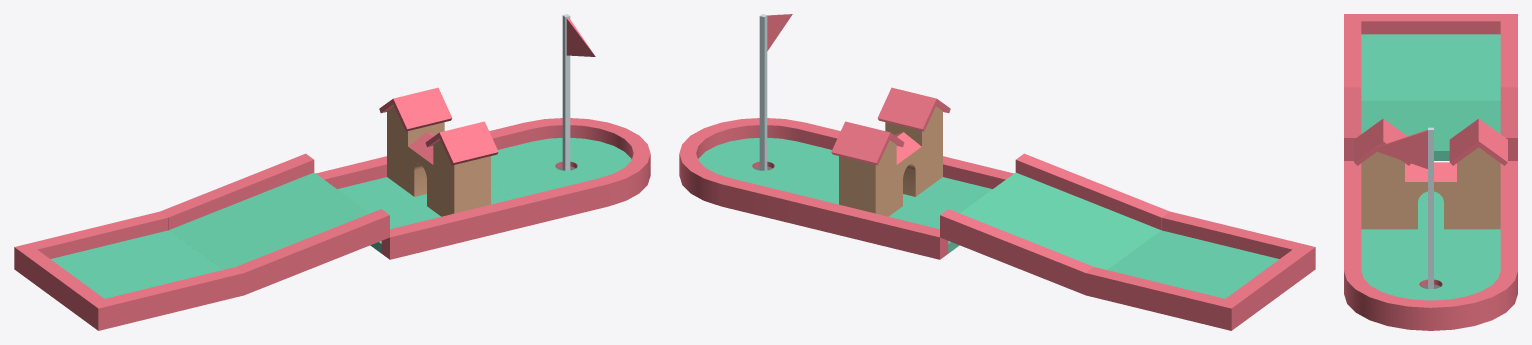
3 renders of one model, left to right at view 1: azimuth 30°, elevation 25°; view 2: azimuth 150°, elevation 25°; view 3: azimuth 270°, elevation 25°, orthographic. The views are drawn at different scales.
Parts seen in each view (by area): view 1: castle, rampA, end, holeRound.001, flag_red; view 2: castle, rampA, end, holeRound.001, flag_red; view 3: castle, end, holeRound.001, rampA, flag_red.
Part boxes in pixels (left/top/right/bottom): castle: left=316, top=87, right=535, bottom=259; rampA: left=160, top=153, right=389, bottom=295; end: left=14, top=211, right=244, bottom=330; holeRound.001: left=489, top=118, right=650, bottom=223; flag_red: left=562, top=14, right=595, bottom=170; castle: left=794, top=87, right=1013, bottom=259; rampA: left=940, top=153, right=1169, bottom=295; end: left=1085, top=211, right=1315, bottom=330; holeRound.001: left=679, top=118, right=840, bottom=223; flag_red: left=759, top=14, right=792, bottom=170; castle: left=1344, top=118, right=1517, bottom=247; end: left=1344, top=14, right=1517, bottom=100; holeRound.001: left=1344, top=234, right=1517, bottom=330; rampA: left=1344, top=87, right=1517, bottom=160; flag_red: left=1370, top=127, right=1433, bottom=288.
Size of the model in its own units: 400 by 105 by 99.99.
